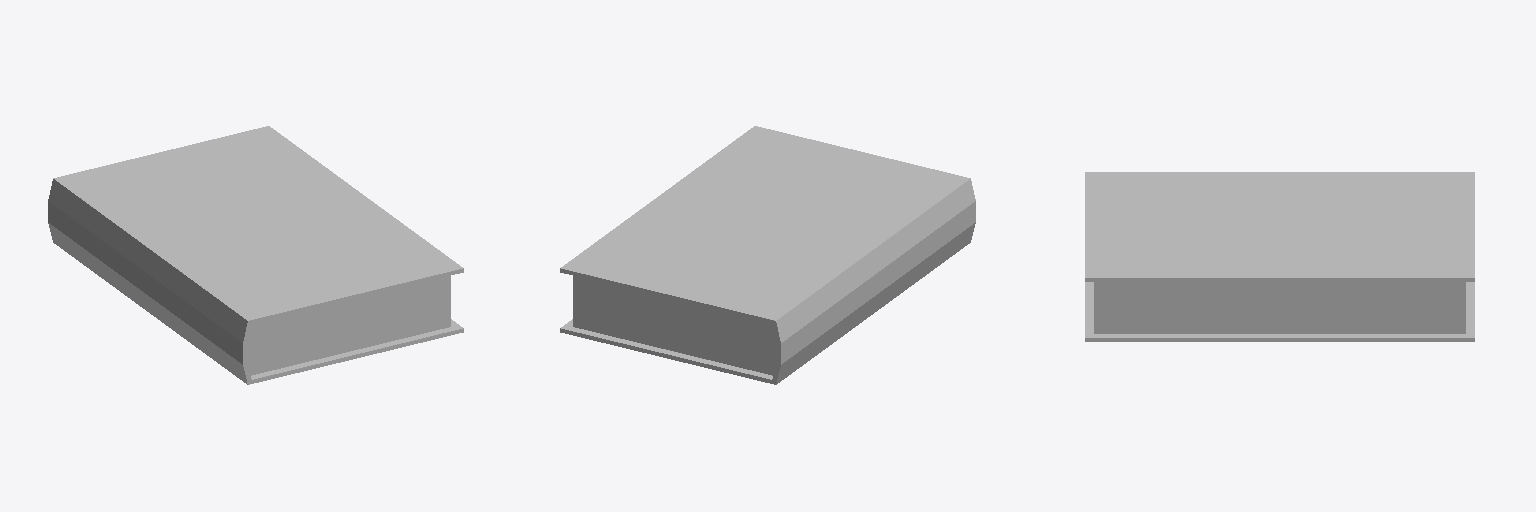
Rendered from Book.obj.
3 renders of one model, left to right at view 1: azimuth 30°, elevation 25°; view 2: azimuth 150°, elevation 25°; view 3: azimuth 270°, elevation 25°, orthographic.
Visible parts, largest first — view 1: Book_Closed; view 2: Book_Closed; view 3: Book_Closed.
Boxes of the visible parts, box(x1,y1,x2,y2) form: Book_Closed: box(48, 126, 463, 384); Book_Closed: box(560, 126, 975, 384); Book_Closed: box(1085, 172, 1474, 341).
Bounding box in the file's own units: 142 × 39.39 × 217.